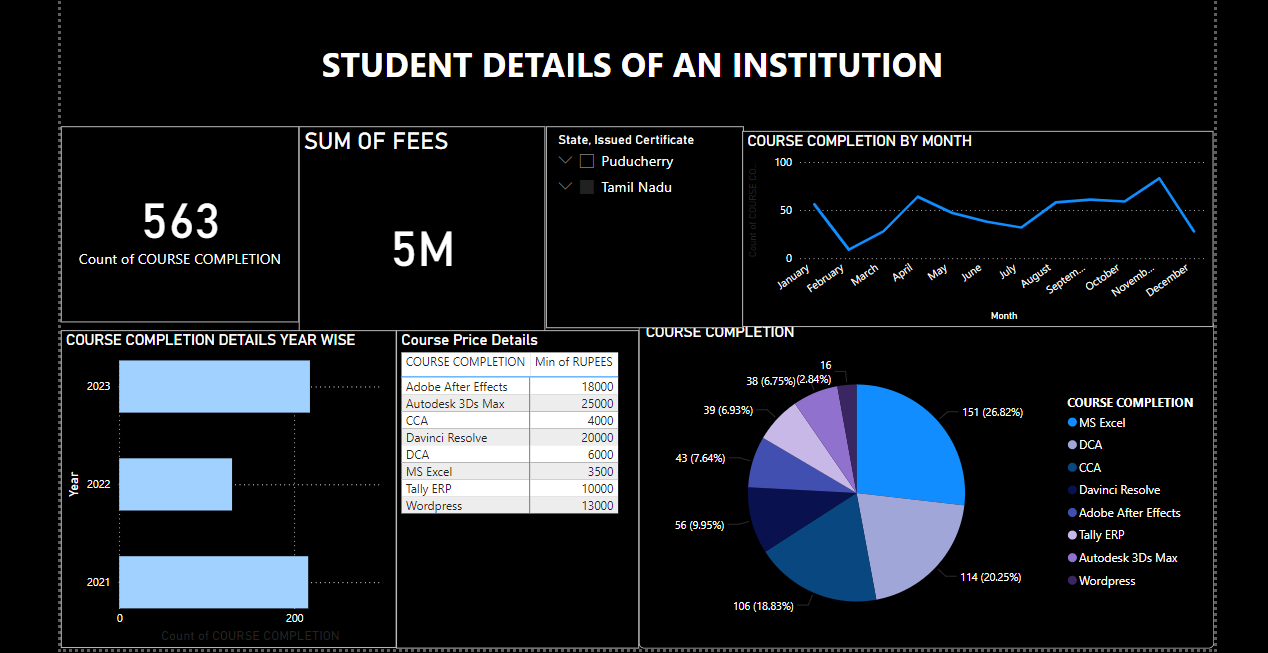

Layout of this report page (visuals, bound fields, positions):
{"tool":"powerbi","page":{"name":"Page 1","canvas":[1289,734],"ordinal":0},"visuals":[{"type":"pieChart","title":"COURSE COMPLETION","fields":{"Category":["Student Course Details.COURSE COMPLETION"],"Y":["CountNonNull(Student Course Details.ID)"]},"box":[645.1,368,642.9,365.8],"z":0},{"type":"slicer","fields":{"Values":["Table2.State","Table2.Issued Certificate"]},"box":[541.2,149.4,220.8,225.1],"z":2},{"type":"card","title":"COUNT OF CERTIFICATION DONE","fields":{"Values":["CountNonNull(Student Course Details.COURSE COMPLETION)"]},"box":[0,149.4,266.2,218.6],"z":3},{"type":"card","title":"SUM OF FEES","fields":{"Values":["Sum(Student Course Details.RUPEES)"]},"box":[266.2,149.4,274.9,229.5],"z":4},{"type":"lineChart","title":"COURSE COMPLETION BY MONTH","fields":{"Category":["Student Course Details.DATE OF COMPLETION.Variation.Date Hierarchy.Year","Student Course Details.DATE OF COMPLETION.Variation.Date Hierarchy.Quarter","Student Course Details.DATE OF COMPLETION.Variation.Date Hierarchy.Month","Student Course Details.DATE OF COMPLETION.Variation.Date Hierarchy.Day"],"Y":["CountNonNull(Student Course Details.COURSE COMPLETION)"]},"box":[761.9,155.9,526,218.6],"z":5},{"type":"clusteredBarChart","title":"COURSE COMPLETION DETAILS YEAR WISE","fields":{"Category":["Student Course Details.DATE OF COMPLETION.Variation.Date Hierarchy.Year","Student Course Details.DATE OF COMPLETION.Variation.Date Hierarchy.Quarter","Student Course Details.DATE OF COMPLETION.Variation.Date Hierarchy.Month","Student Course Details.DATE OF COMPLETION.Variation.Date Hierarchy.Day"],"Y":["CountNonNull(Student Course Details.COURSE COMPLETION)"]},"box":[0,378.8,374.5,355],"z":7},{"type":"pivotTable","title":"Course Price Details","fields":{"Rows":["Student Course Details.COURSE COMPLETION"],"Values":["Min(Student Course Details.RUPEES)"]},"box":[374.6,378,271,355.6],"z":8},{"type":"textbox","box":[0,0,1287.7,132.9],"z":9}]}

Visuals, with their boxes in screenshot pixels (x1, y1, x2, y2):
"COURSE COMPLETION" pieChart: bbox(636, 327, 1201, 648)
slicer - Table2.State x Table2.Issued Certificate: bbox(545, 135, 739, 332)
"COUNT OF CERTIFICATION DONE" card: bbox(69, 135, 303, 327)
"SUM OF FEES" card: bbox(303, 135, 545, 336)
"COURSE COMPLETION BY MONTH" lineChart: bbox(739, 140, 1201, 332)
"COURSE COMPLETION DETAILS YEAR WISE" clusteredBarChart: bbox(69, 336, 398, 648)
"Course Price Details" pivotTable: bbox(398, 335, 636, 648)
textbox: bbox(69, 3, 1201, 120)
